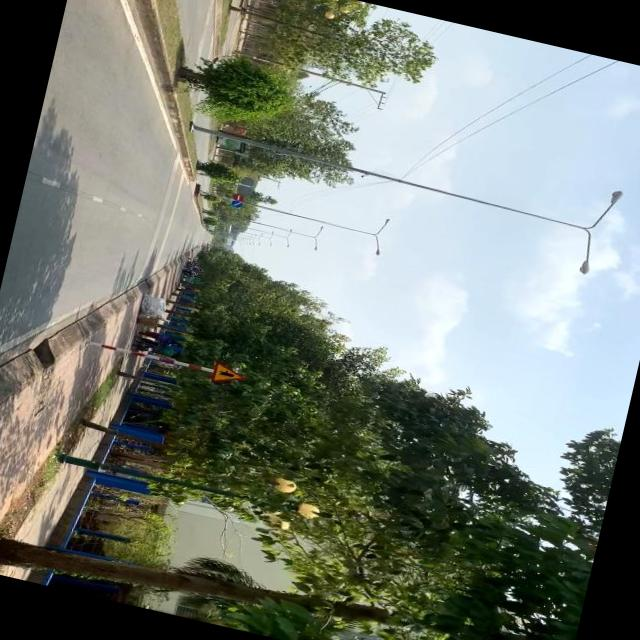P-102: (230, 193, 246, 202)
R-302a: (228, 199, 242, 209)
W-207c: (206, 358, 250, 390)
